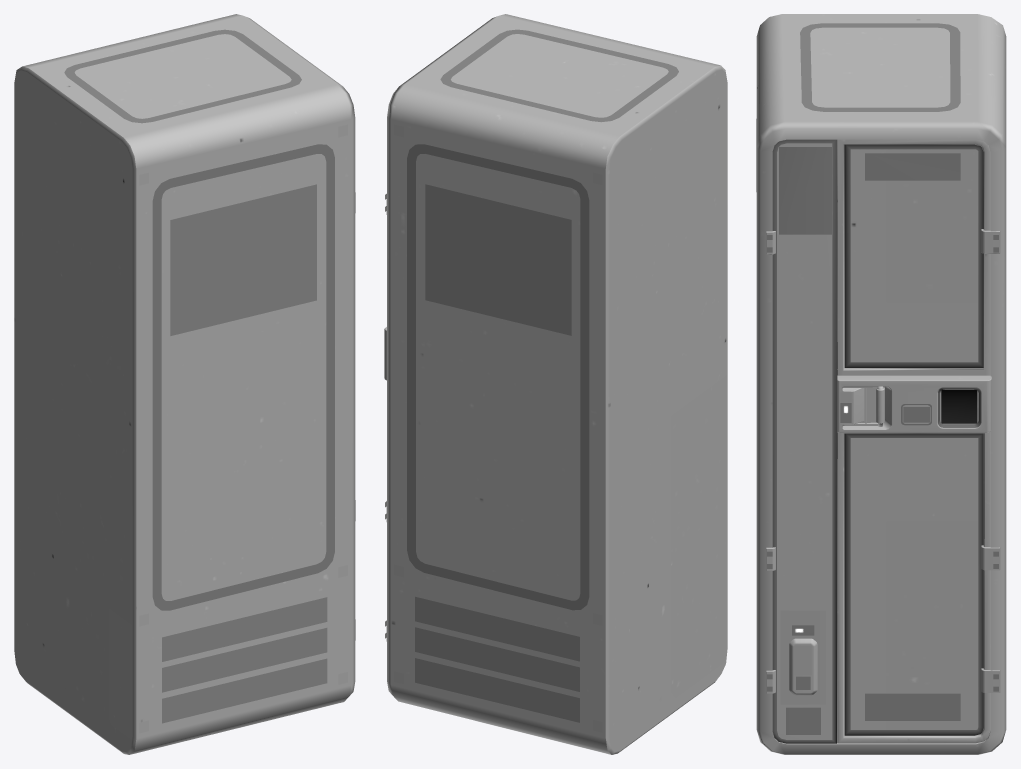
The model's file is SM_Locker_Closed.fbx.
3 views of the same model, side by side, from view 1: azimuth 30°, elevation 25°; view 2: azimuth 150°, elevation 25°; view 3: azimuth 270°, elevation 25° (orthographic). The views are drawn at different scales.
Visible parts, largest first — view 1: SM_Locker_Closed_LOD0; view 2: SM_Locker_Closed_LOD0; view 3: SM_Locker_Closed_LOD0.
Boxes of the visible parts, <box> form: SM_Locker_Closed_LOD0: <box>14,14,355,754</box>; SM_Locker_Closed_LOD0: <box>384,14,727,754</box>; SM_Locker_Closed_LOD0: <box>756,14,1006,754</box>.
Bounding box in the file's own units: 57.67 × 52.26 × 146.
